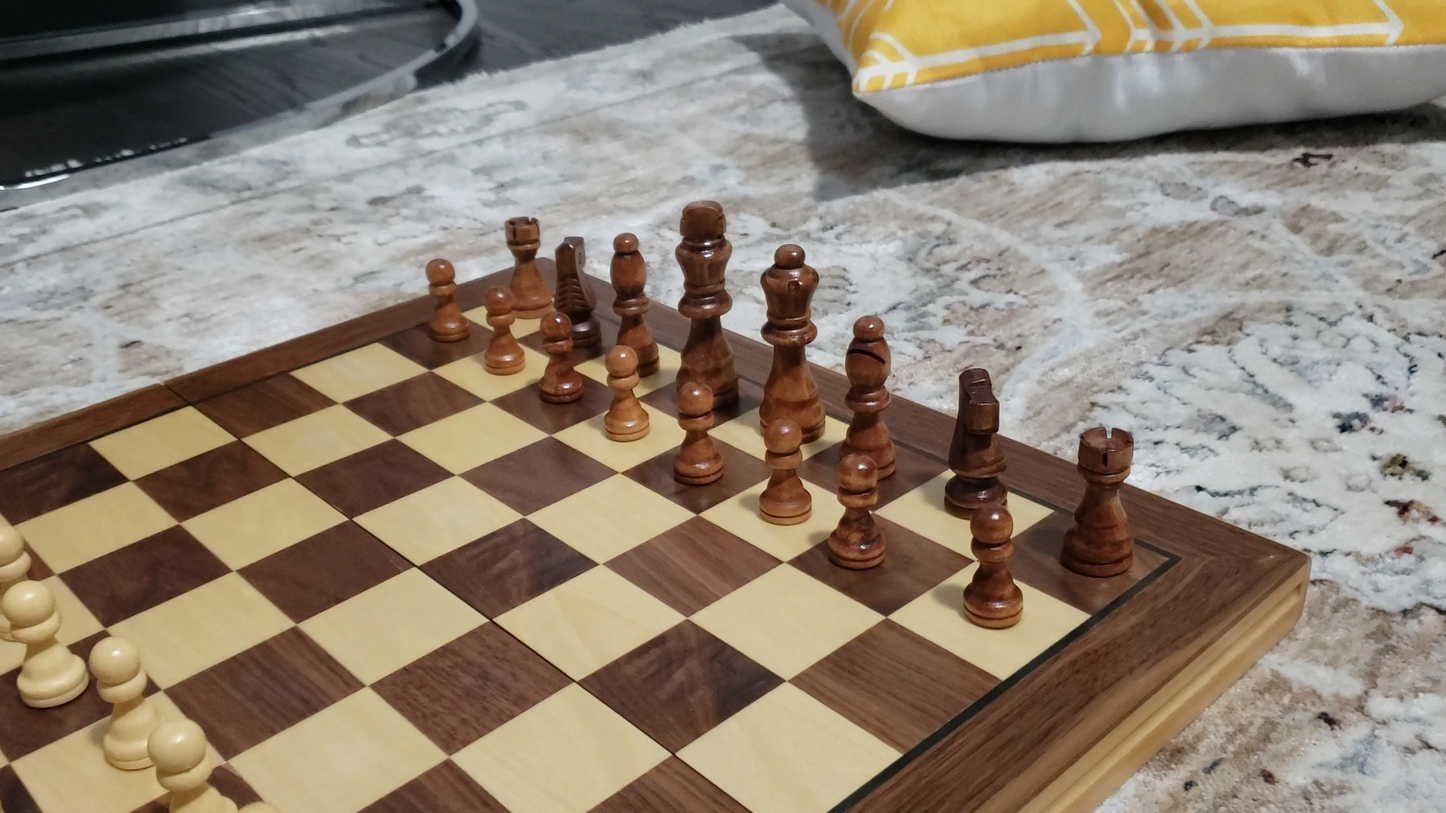black-bishop: (841, 313, 895, 481), (609, 230, 653, 378)
black-king: (672, 192, 741, 408)
black-knight: (945, 367, 1005, 519), (554, 233, 601, 352)
black-pawn: (954, 508, 1034, 632), (818, 439, 889, 576), (753, 415, 814, 527), (672, 382, 721, 491), (598, 345, 647, 444), (538, 307, 584, 404), (425, 255, 468, 343), (484, 285, 525, 376)
black-queen: (757, 241, 826, 452)
black-rook: (1061, 425, 1136, 579), (503, 213, 553, 319)
white-pawn: (0, 565, 90, 722), (76, 638, 170, 777), (143, 714, 236, 813)
